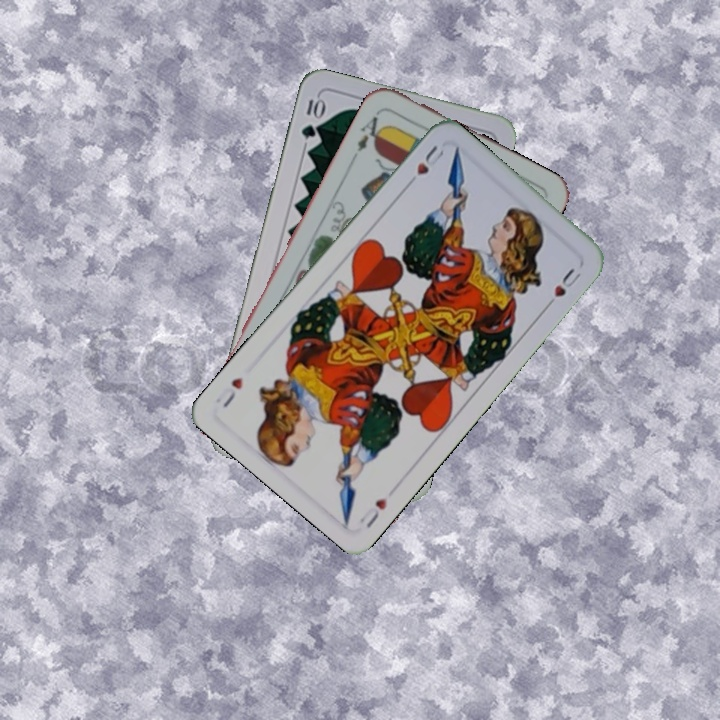EA: (353, 106, 389, 154)
G10: (297, 93, 326, 142)
HU: (404, 141, 447, 190), (355, 494, 390, 531)
